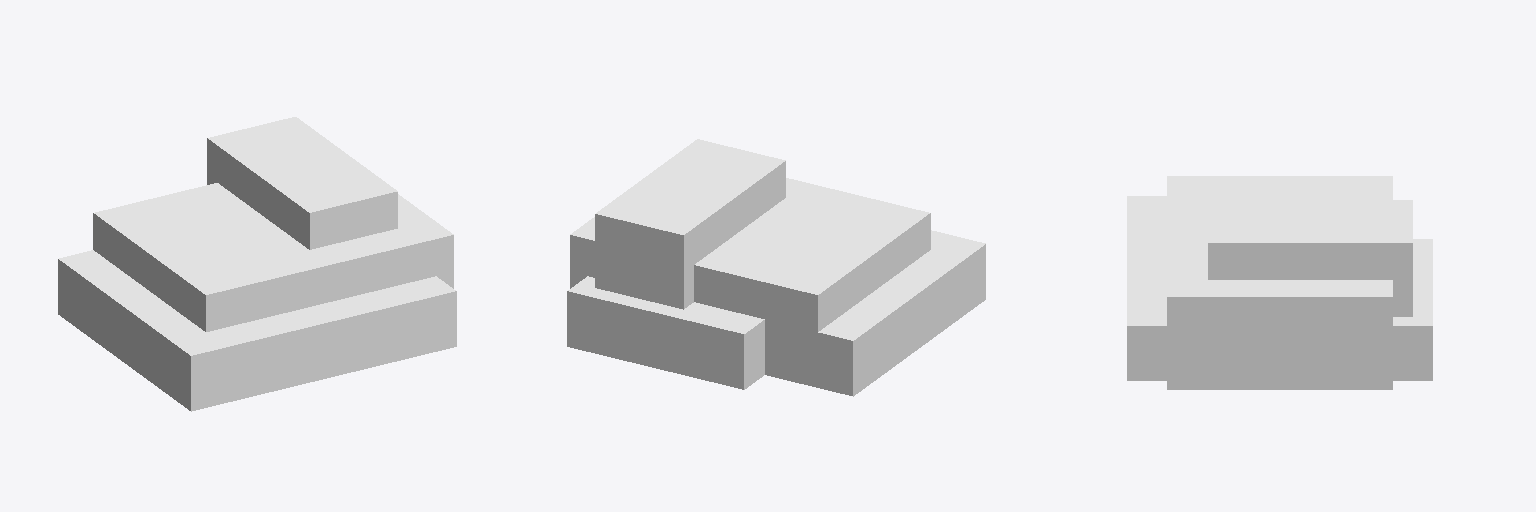
The model's file is stone01.obj.
3 views of the same model, side by side, from view 1: azimuth 30°, elevation 25°; view 2: azimuth 150°, elevation 25°; view 3: azimuth 270°, elevation 25° (orthographic).
Visible parts, largest first — view 1: object 1; view 2: object 1; view 3: object 1.
Boxes of the visible parts, x1,y1,x2,y2 form: object 1: [58, 117, 456, 411]; object 1: [567, 139, 985, 396]; object 1: [1127, 176, 1432, 389].
Size of the model in its own units: 1.6 by 0.7 by 1.5.